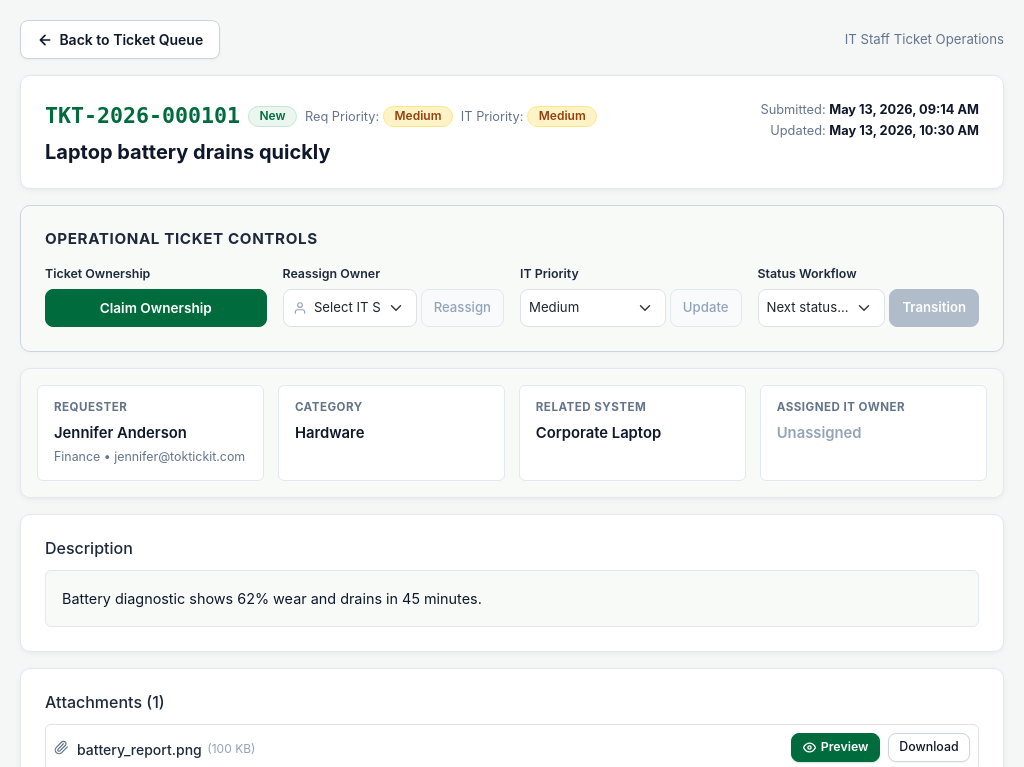
Test: StaffTicketDetail Component (StaffTicketDetail.test.tsx) › UI-06: Ticket Operational Controls › reassigns ticket to another IT Staff member
expect the text "TKT-2026-000101" is shown: met, box [45,100,240,132]
Select "Sarah Johnson" in the dropdown with test id "reassign-owner-select" at (350, 308), box [282,289,417,327]
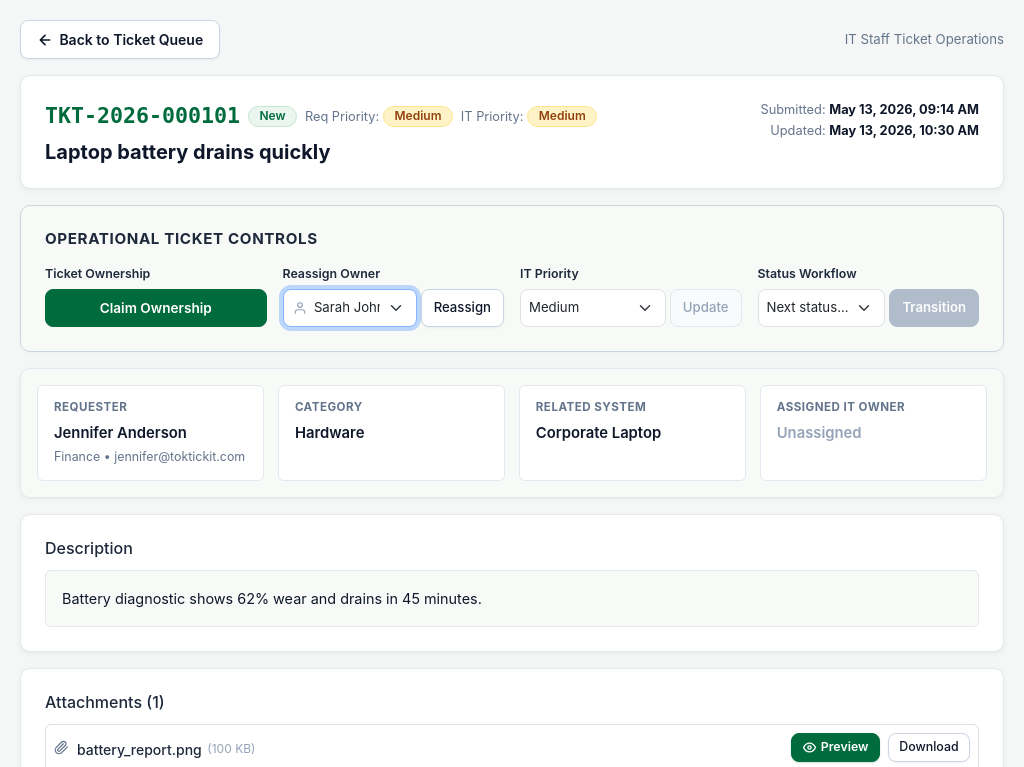
Click the button with test id "reassign-owner-btn" at (462, 308), box [421,289,504,327]
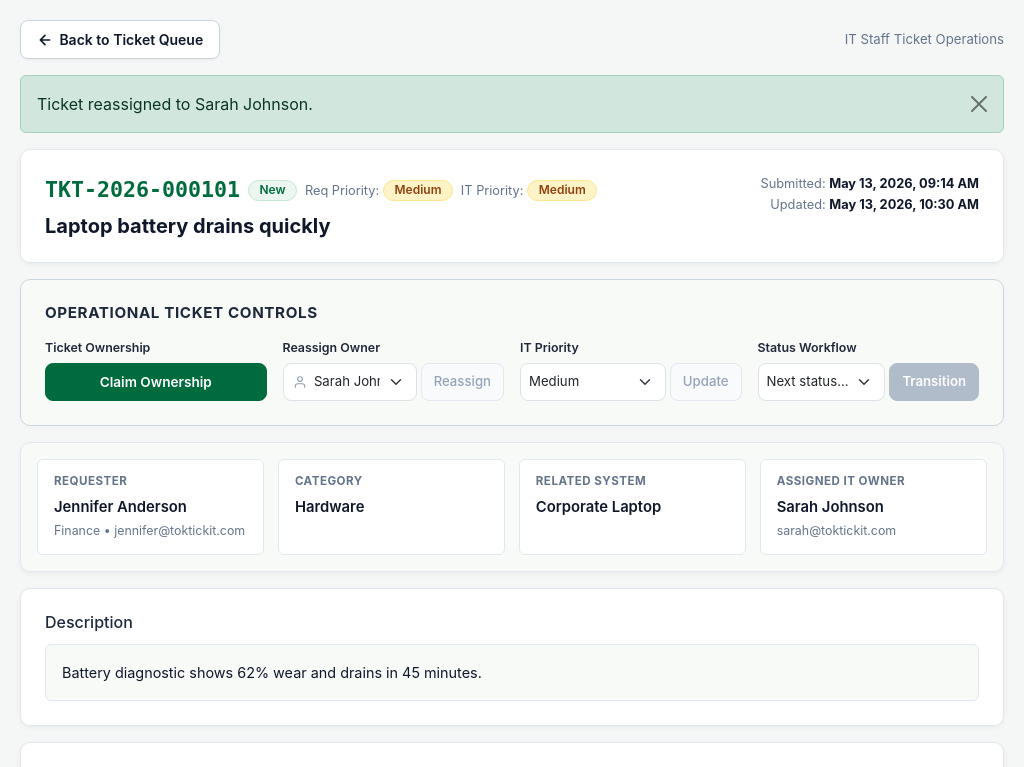
expect the message with test id "action-success-alert" reads "Ticket reassigned to Sarah Johnson.": met, box [37,94,313,114]
